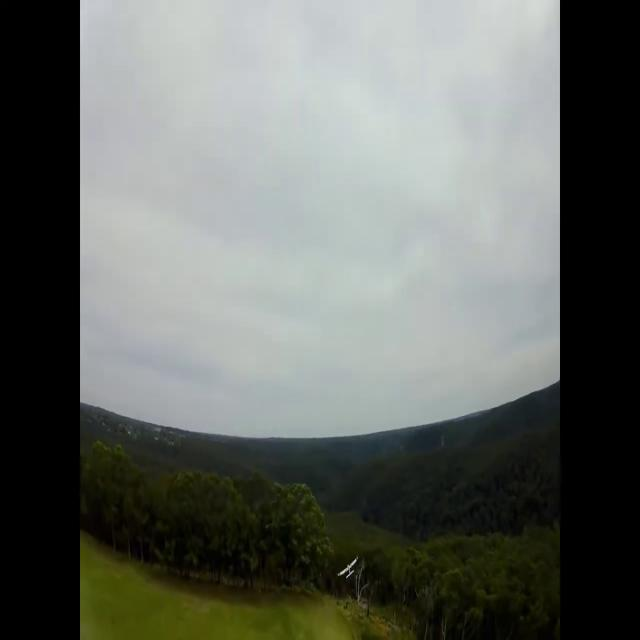iha: (340, 556, 358, 582)
